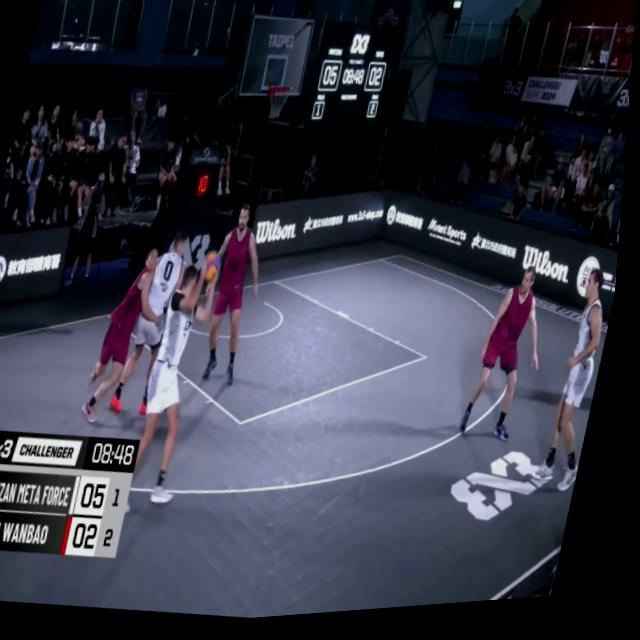ball: (203, 253, 226, 288)
hoop: (264, 87, 295, 127)
player: (128, 258, 227, 510), (538, 278, 622, 507), (466, 272, 563, 457), (85, 244, 175, 430), (114, 226, 198, 425), (194, 202, 278, 395)
